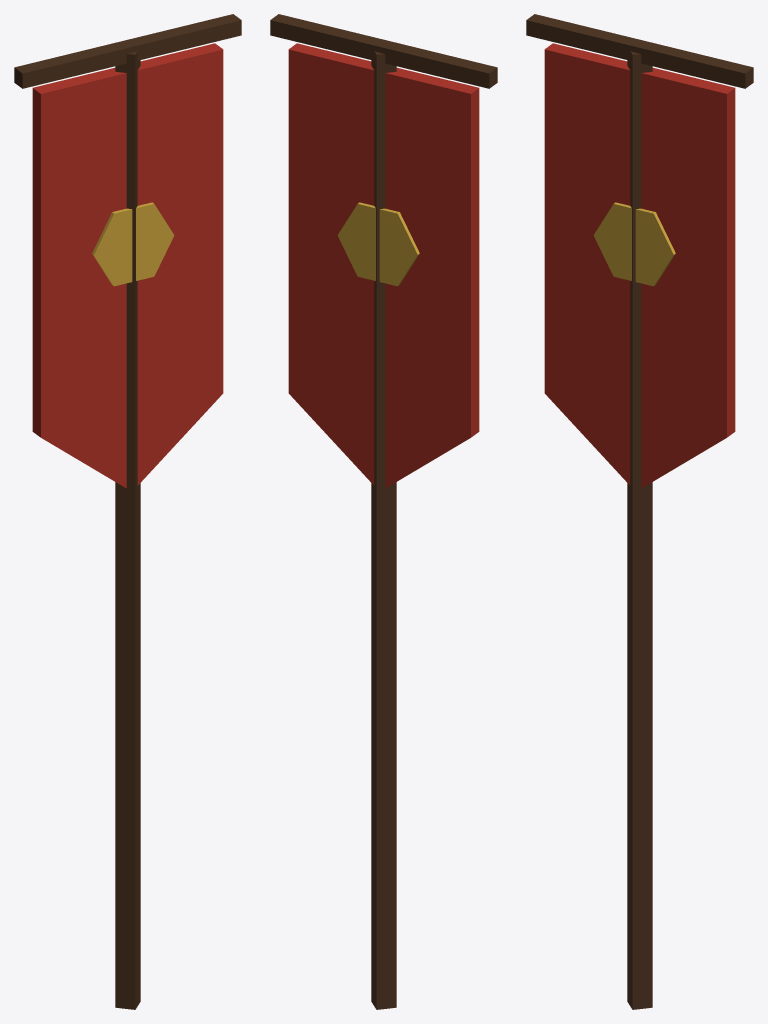
The model's file is banner_pole.fbx.
The picture shows the model from 3 angles, left to right: view 1: azimuth 30°, elevation 25°; view 2: azimuth 150°, elevation 25°; view 3: azimuth 330°, elevation 25°; orthographic projection.
Parts seen in each view (by area): view 1: banner_pole; view 2: banner_pole; view 3: banner_pole.
Part boxes in pixels (box(x1,y1,x2,y2)): banner_pole: box(14, 14, 241, 1009); banner_pole: box(270, 14, 497, 1009); banner_pole: box(526, 14, 753, 1009).
Size of the model in its own units: 1.2 by 5.03 by 0.14.
1 material, 1 textured.
